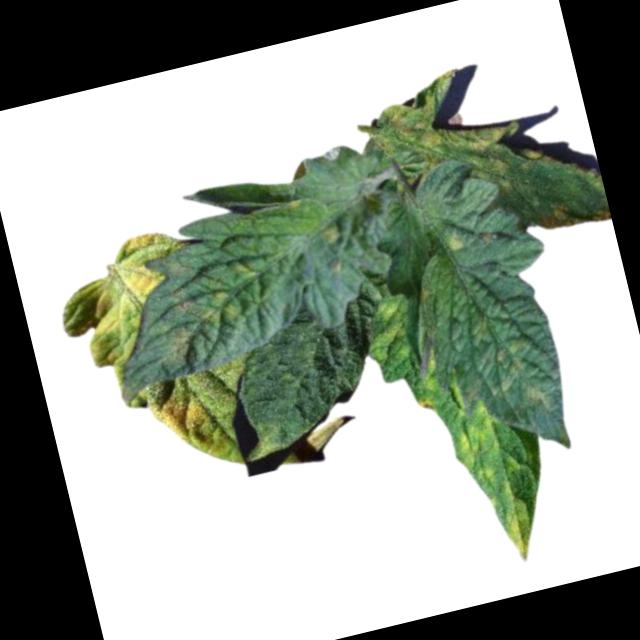Leaf_Mold: (352, 52, 548, 202), (45, 227, 199, 399), (142, 367, 233, 468), (190, 254, 278, 334), (446, 401, 508, 488), (498, 497, 549, 564), (319, 218, 346, 250), (446, 228, 467, 254)
